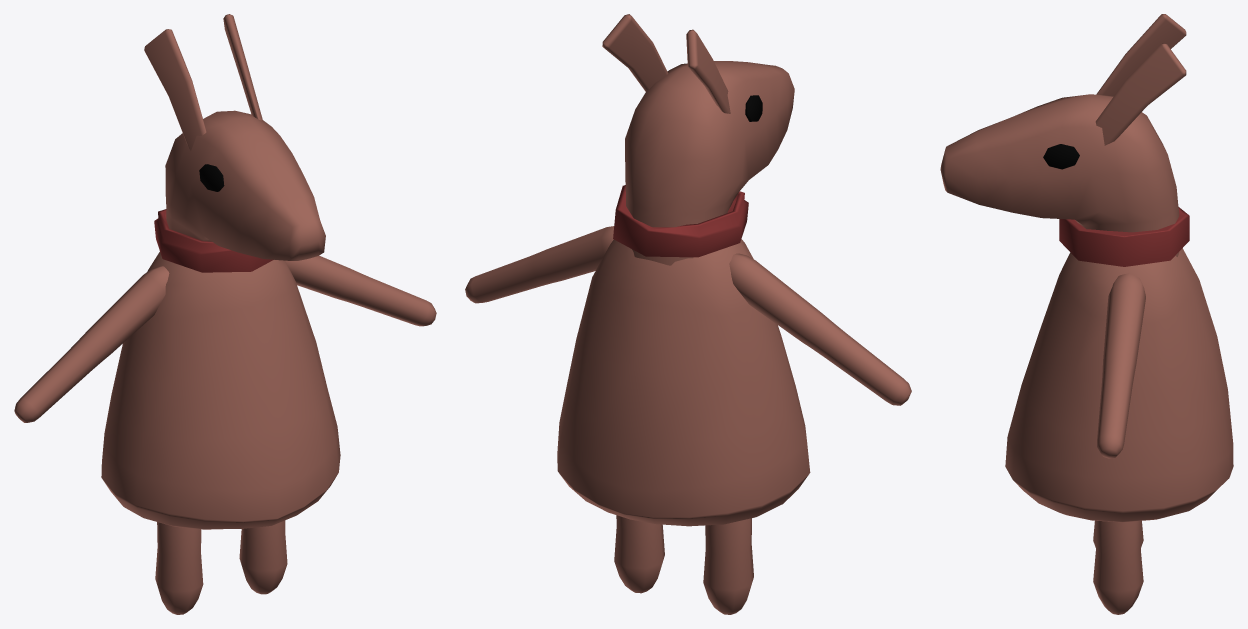
File: TestExport_01_moyo.fbx
The picture shows the model from 3 angles, left to right: view 1: azimuth 30°, elevation 25°; view 2: azimuth 150°, elevation 25°; view 3: azimuth 270°, elevation 25°; orthographic projection. The views are drawn at different scales.
Visible parts, largest first — view 1: Body, Head, Arms, Legs, Ears, Scarf; view 2: Body, Head, Arms, Legs, Scarf, Ears; view 3: Body, Head, Arms, Ears, Scarf, Legs, Eyes.
Part boxes in pixels (x1,y1,x2,y2): Body: [101, 252, 340, 529]; Head: [165, 110, 325, 260]; Arms: [14, 255, 436, 422]; Legs: [155, 520, 287, 614]; Ears: [144, 14, 262, 150]; Scarf: [154, 209, 273, 272]; Body: [557, 239, 810, 526]; Head: [625, 61, 794, 265]; Arms: [465, 226, 911, 405]; Legs: [614, 515, 753, 614]; Scarf: [613, 185, 748, 257]; Ears: [602, 14, 730, 113]; Body: [1005, 248, 1233, 522]; Head: [940, 94, 1179, 256]; Arms: [1097, 273, 1145, 458]; Ears: [1095, 14, 1186, 145]; Scarf: [1059, 207, 1189, 266]; Legs: [1093, 520, 1143, 614]; Eyes: [1043, 144, 1079, 169].
Size of the model in its own units: 139 by 84.62 by 179.
